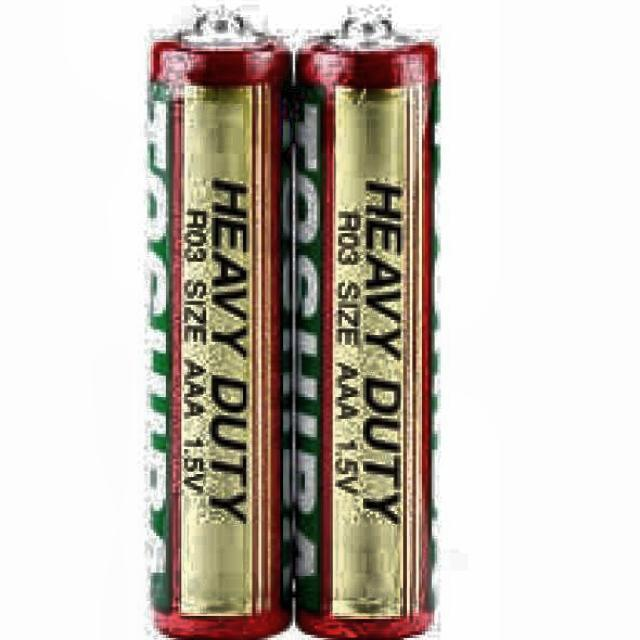battery: (293, 9, 437, 640), (150, 10, 289, 638)
